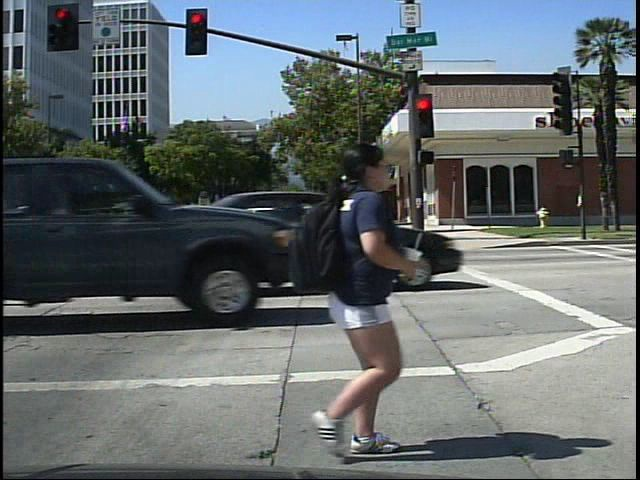person: (288, 133, 418, 462)
